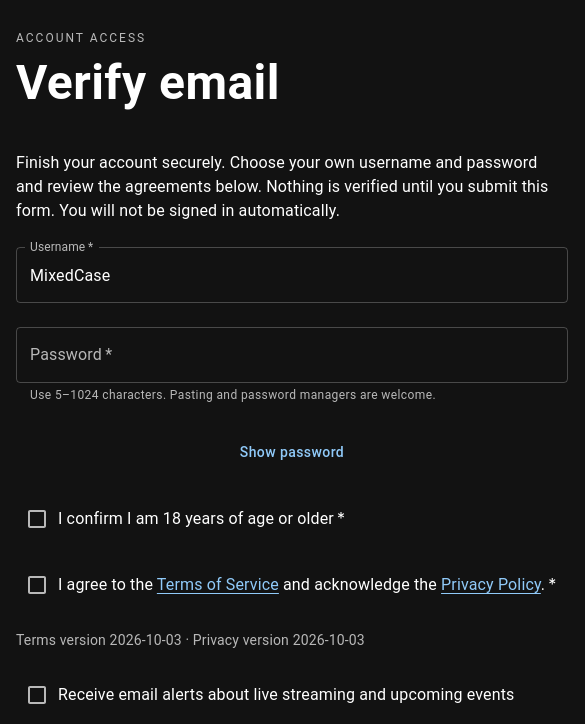
Scenario: accepts a 5-character completion password unchanged
Type "AbCdE" into the password field labelled "Password *" at [292, 355], box [16,327,568,383]
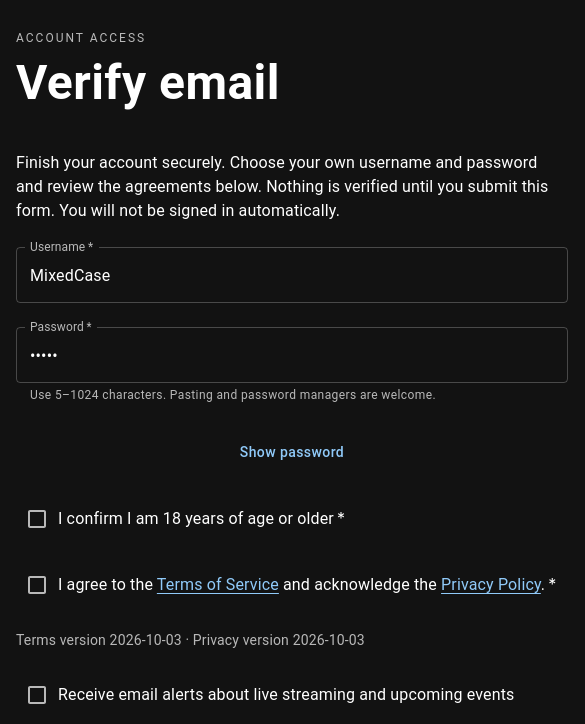
Click the checkbox labelled "I confirm I am 18 years of age or older *" at [185, 519], box [25,507,345,531]
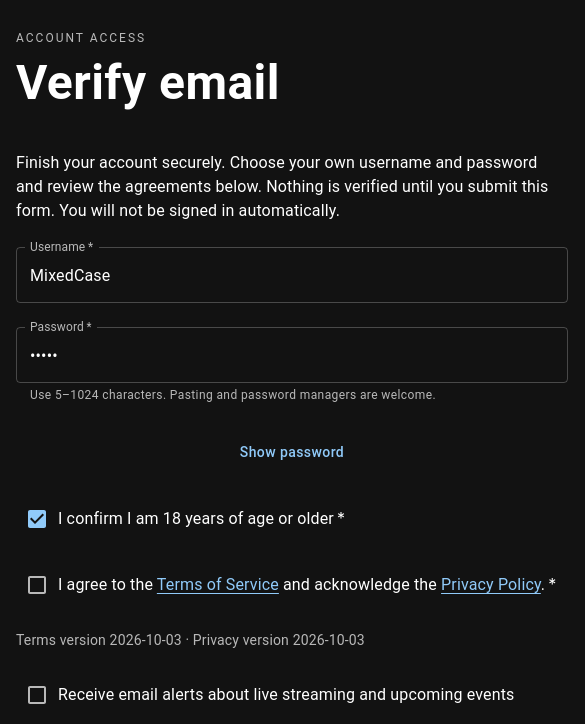
Click the checkbox labelled "I agree" at [291, 585], box [25,573,556,597]
(page scrolled)
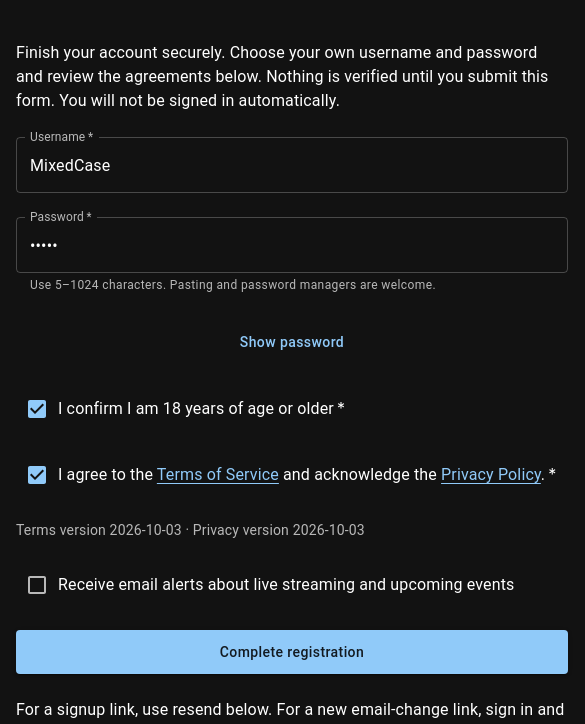
Submit the form named "Complete registration"
(page scrolled)
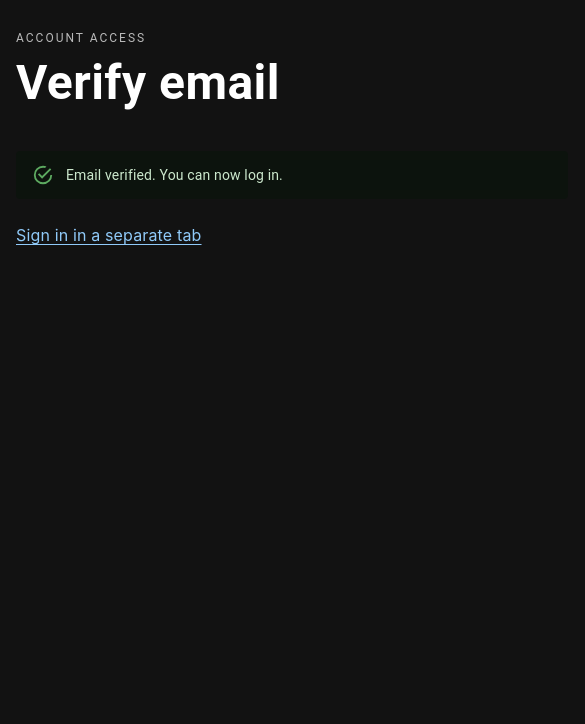
Check: the text "Email verified. You can now log in." is shown, box [66,167,283,183]
